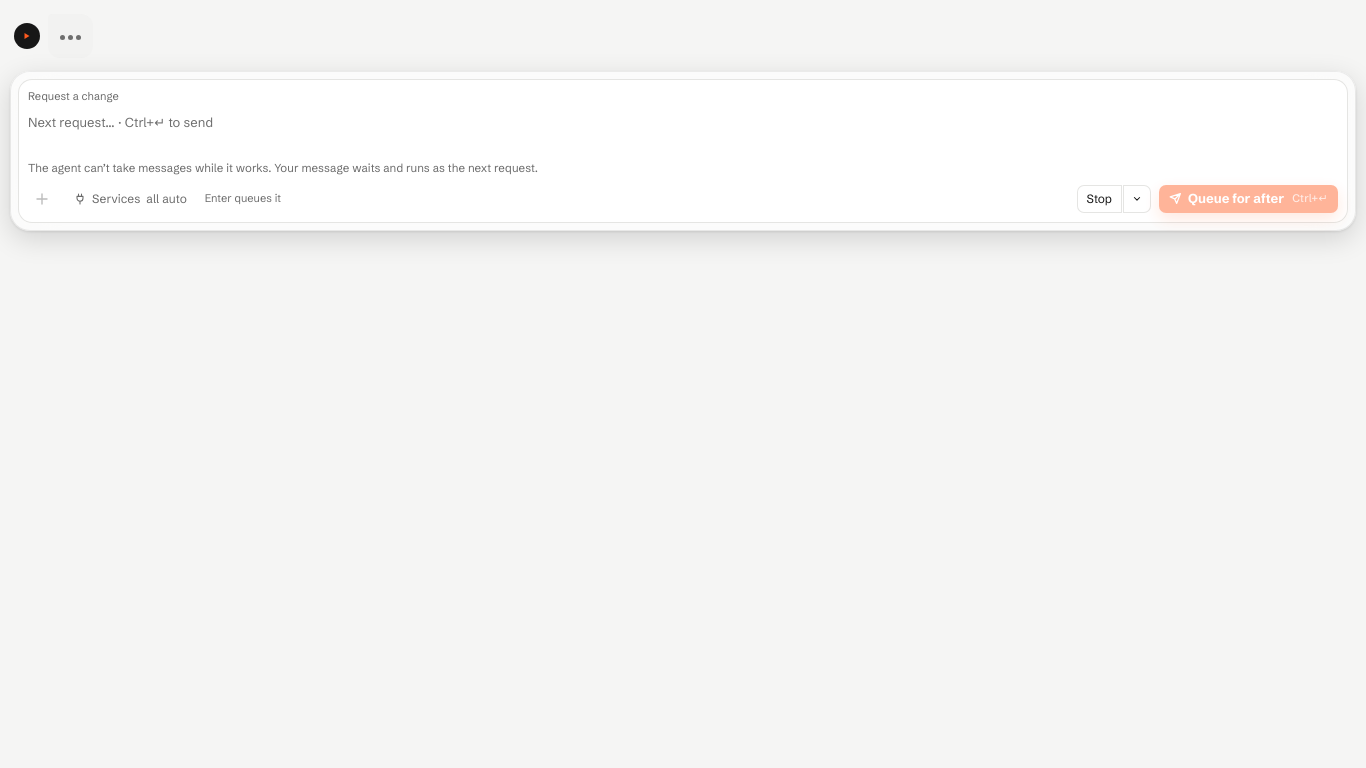
Scenario: the composer "Services" chip › cannot change the services while a turn runs
The image size is (1366, 768).
Click the button with aria-label "Services: all auto.". click: (130,198)
box: [64, 184, 197, 212]
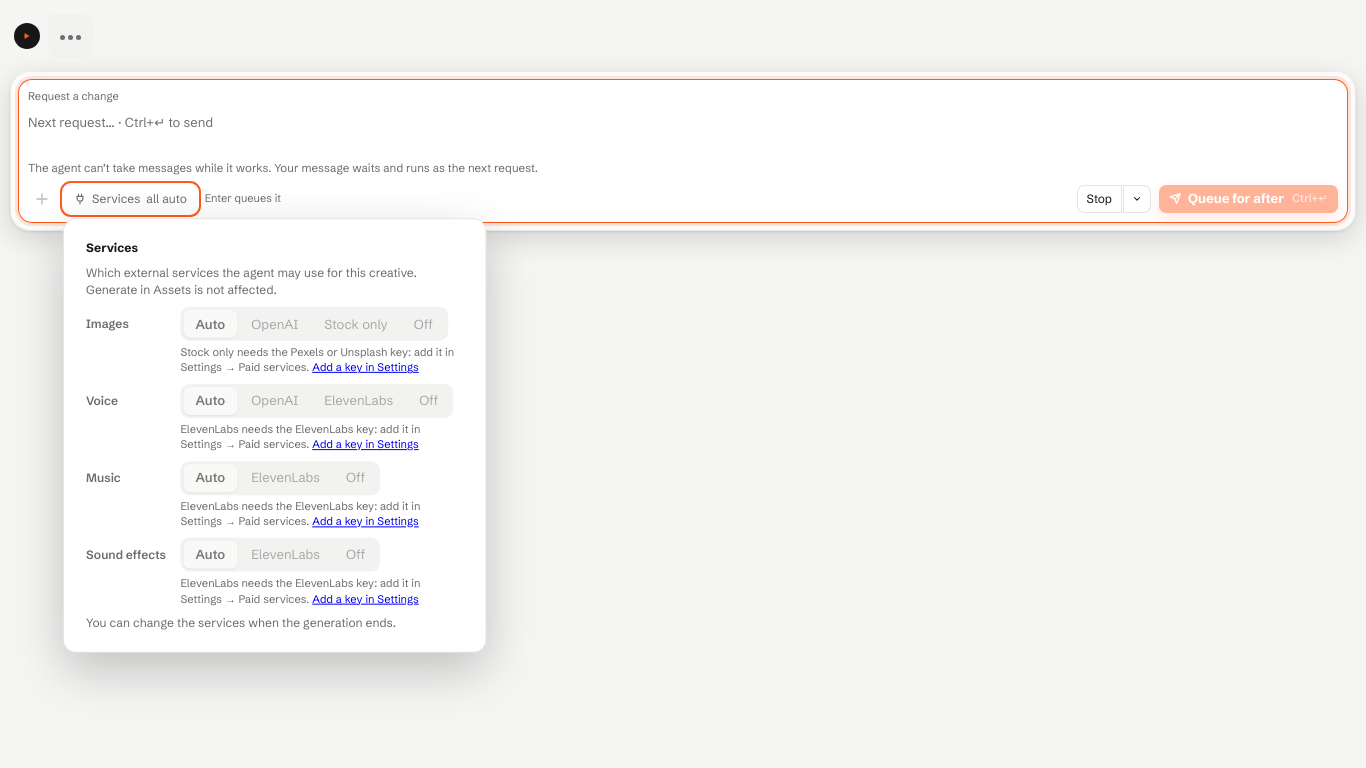
Result: the text "You can change the services when the generation ends." is shown at [86, 613, 395, 628]
